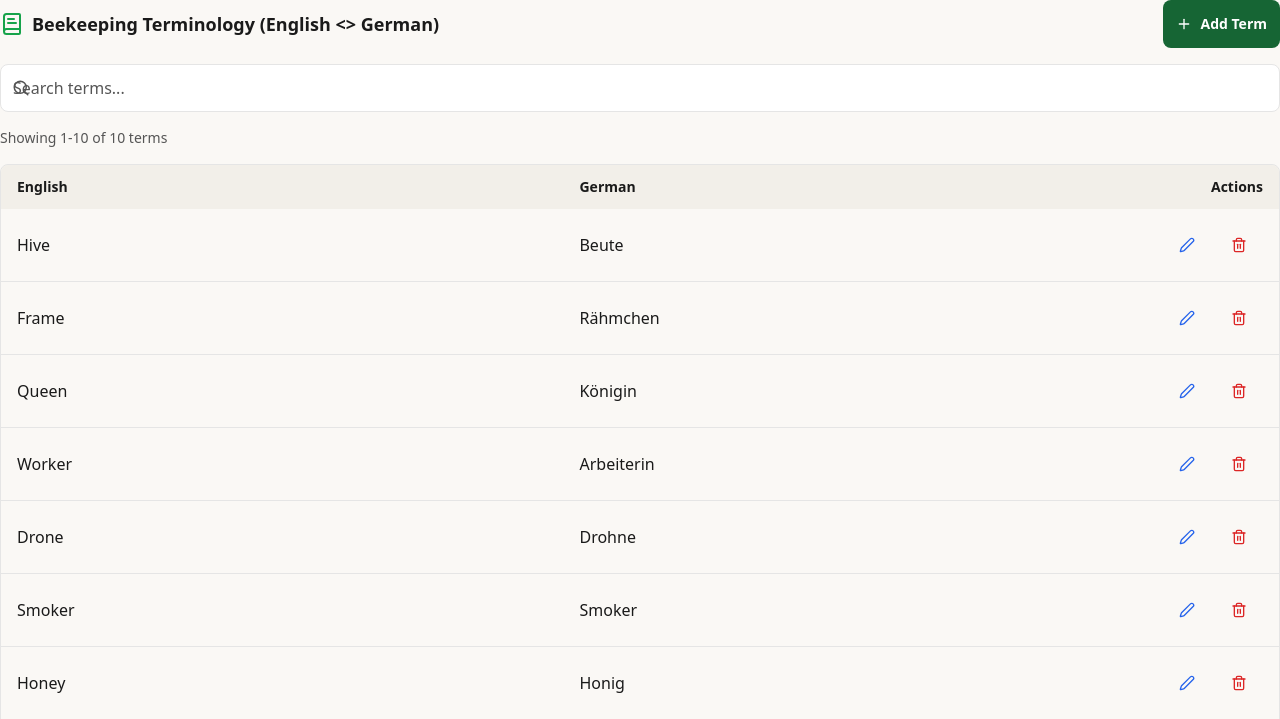
TerminologyTable › Add Term Functionality › should warn when trying to save empty fields
The image size is (1280, 719).
Click the button "Add Term".
click(1222, 24)  # box x1=1164 y1=0 x2=1279 y2=48
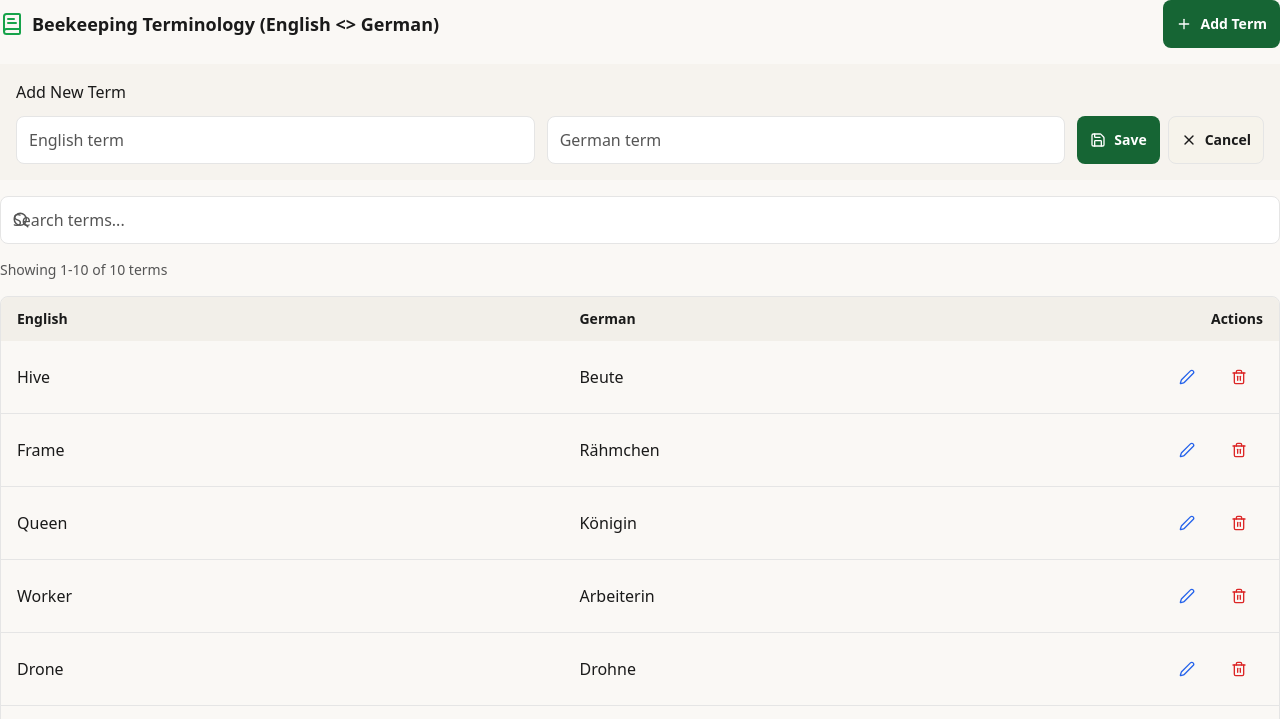
Click the button "Save".
click(1118, 140)  # box x1=1077 y1=116 x2=1160 y2=164
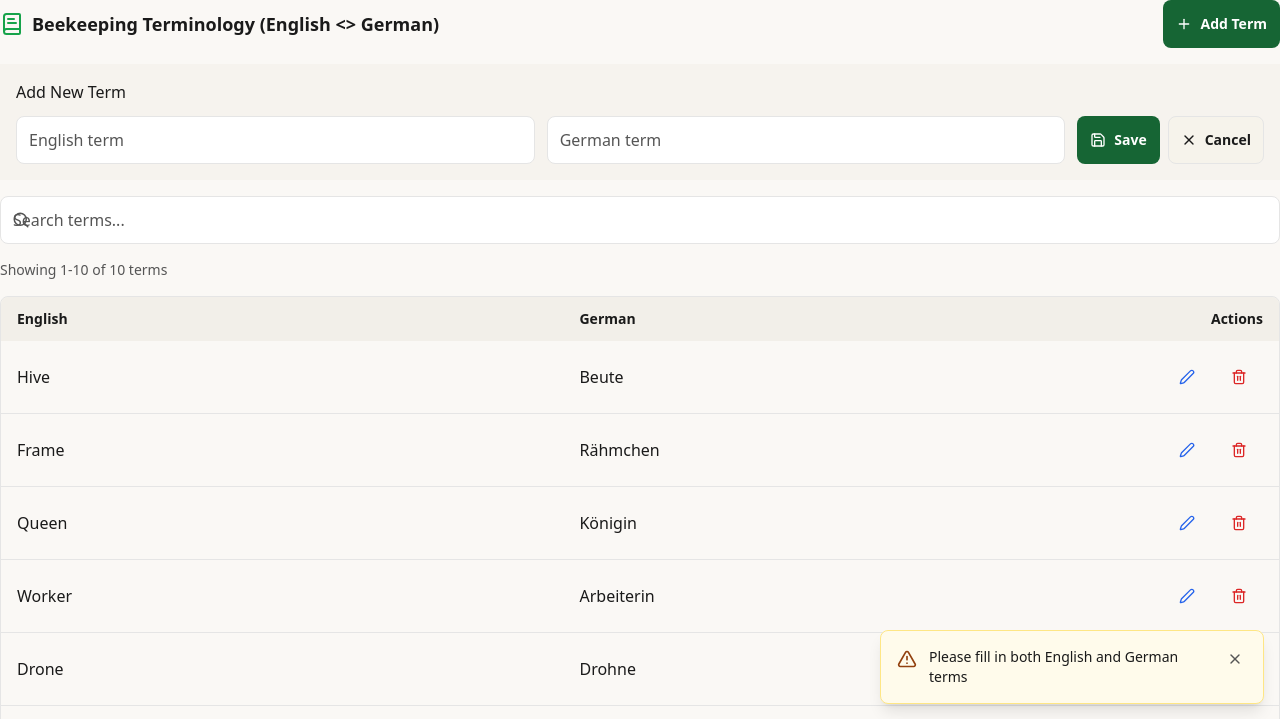
Expected: the text "Please fill in both English and German terms" is shown, x1=929 y1=647 x2=1211 y2=687
